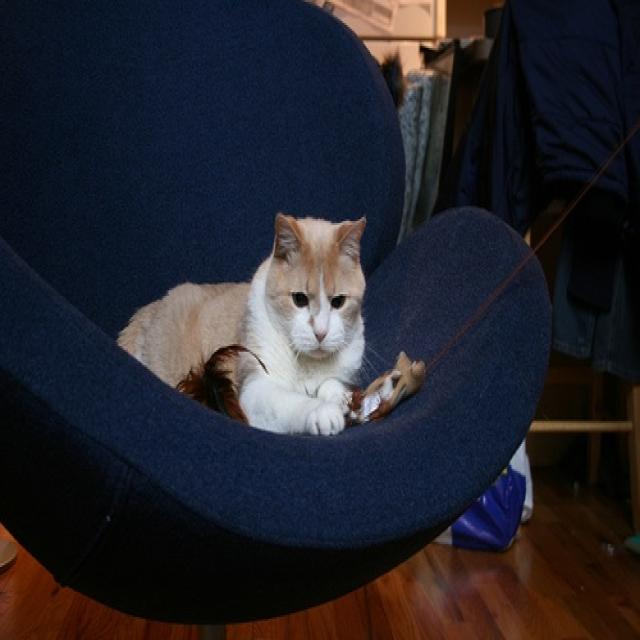cat: (117, 209, 371, 436)
chair: (0, 0, 553, 628)
